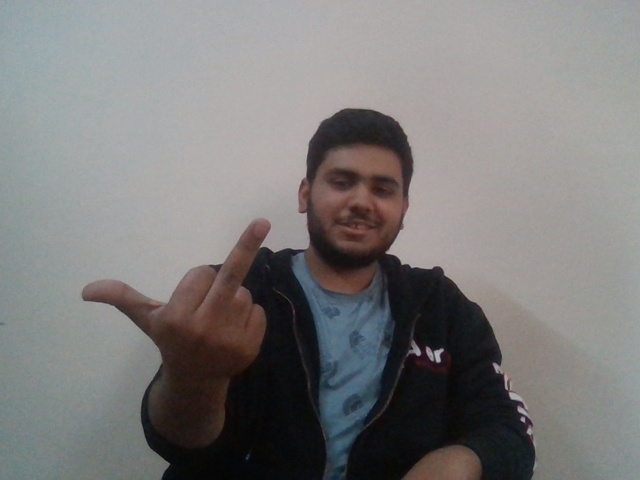Hello: (153, 216, 281, 377)
